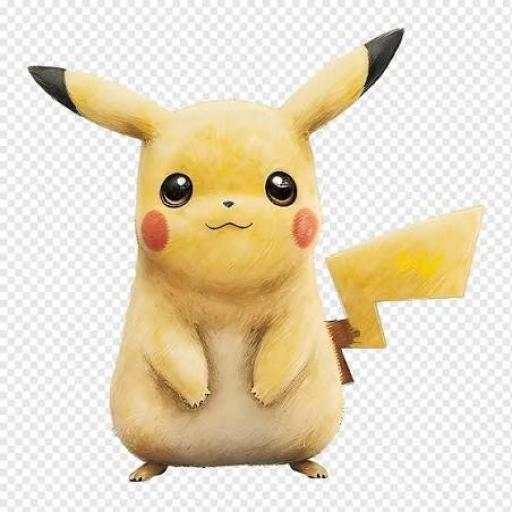Pikachu: (22, 26, 486, 483)
